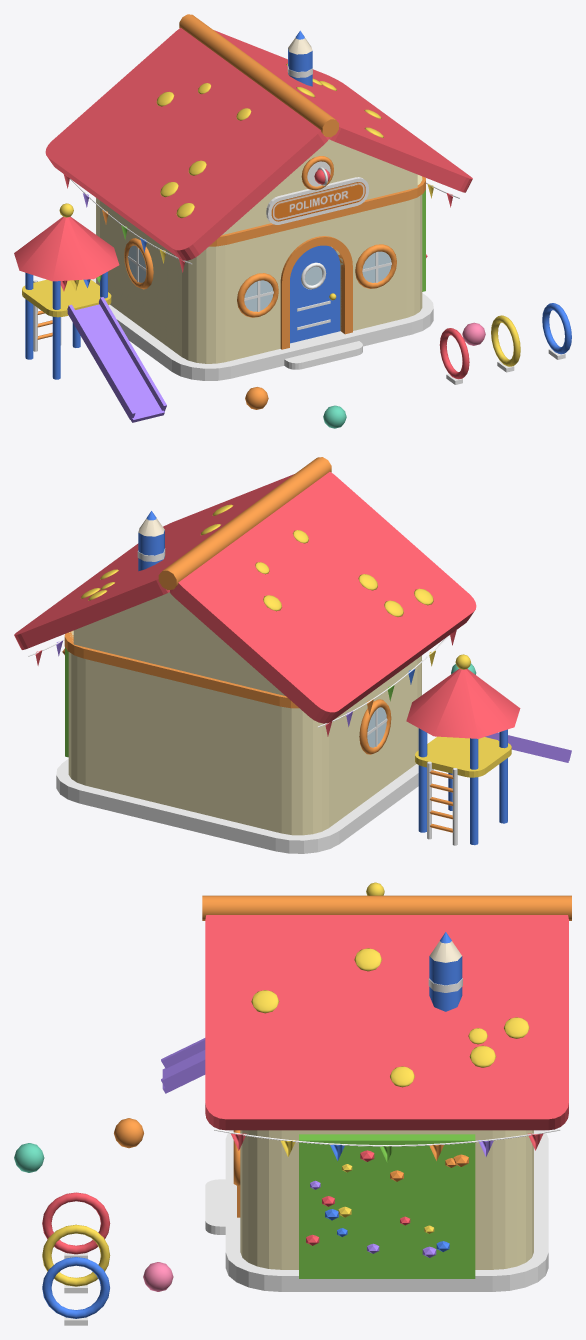
File: casa_polimotor.glb
3 views of the same model, one above another, from view 1: azimuth 30°, elevation 25°; view 2: azimuth 150°, elevation 25°; view 3: azimuth 270°, elevation 25° (orthographic). The views are drawn at different scales.
Visible parts, largest first — view 1: teja (×2), muros, base, torre_techo, hastial_frente, hoja, cumbrera, tobogan, marco, aro (×3), cinta, letrero_texto (+13 smaller); view 2: teja (×2), muros, hastial_fondo, base, torre_techo, cumbrera, cinta, torre_plataforma, torre_poste_1, torre_poste_2, aro, tobogan_borde_1 (+3 smaller); view 3: teja, muro_escalada, muros, base, cumbrera, aro_3, aro_2, aro_1, cuerpo, escalon, cuerda, pelota_3 (+3 smaller).
Part boxes in pixels (box(x1,y1,x2,y2)): teja (×2): box(45, 28, 472, 260); muros: box(96, 176, 422, 363); base: box(92, 278, 433, 380); torre_techo: box(14, 216, 119, 281); hastial_frente: box(222, 139, 417, 234); hoja: box(290, 245, 340, 343); cumbrera: box(179, 14, 338, 137); tobogan: box(75, 304, 164, 422); marco: box(280, 236, 352, 349); aro (×3): box(124, 238, 396, 317); cinta: box(209, 176, 425, 246); letrero_texto: box(271, 182, 365, 221); teja (×2): box(14, 472, 476, 723); muros: box(68, 632, 421, 835); hastial_fondo: box(73, 592, 285, 695); base: box(56, 759, 433, 853); torre_techo: box(406, 669, 520, 738); cumbrera: box(158, 457, 331, 589); cinta: box(64, 631, 298, 708); torre_plataforma: box(415, 736, 511, 777); torre_poste_1: box(470, 738, 478, 845); torre_poste_2: box(418, 728, 427, 832); aro: box(359, 699, 391, 754); tobogan_borde_1: box(498, 735, 571, 760); teja: box(205, 915, 568, 1130); muro_escalada: box(299, 1134, 475, 1278); muros: box(240, 1130, 533, 1269); base: box(225, 1130, 548, 1291); cumbrera: box(202, 895, 571, 920); aro_3: box(42, 1257, 109, 1318); aro_2: box(42, 1224, 110, 1286); aro_1: box(42, 1192, 110, 1254); cuerpo: box(429, 956, 462, 1011); escalon: box(205, 1179, 225, 1234); cuerda: box(214, 1129, 560, 1146); pelota_3: box(143, 1262, 173, 1291).
Size of the model in its own units: 10.8 by 6.02 by 9.51.
Materials: 13 (1 with a texture image).
